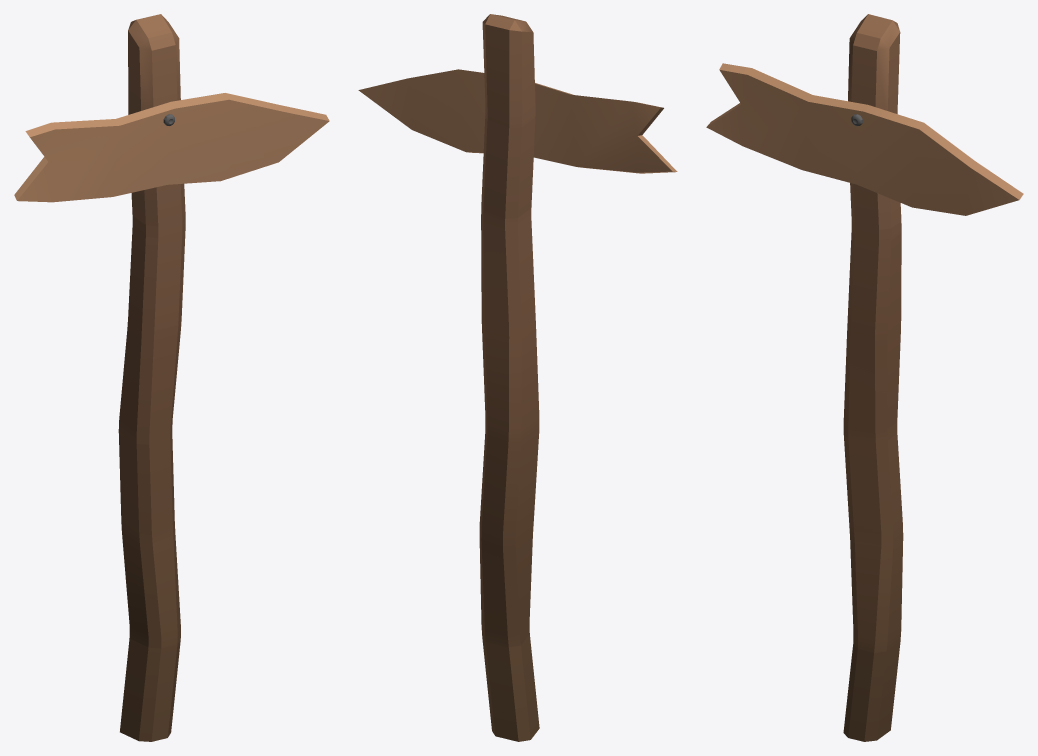
File: Directionvpointer_2.fbx
3 renders of one model, left to right at view 1: azimuth 30°, elevation 25°; view 2: azimuth 150°, elevation 25°; view 3: azimuth 330°, elevation 25°, orthographic.
Parts seen in each view (by area): view 1: Directionvpointer_2; view 2: Directionvpointer_2; view 3: Directionvpointer_2.
Boxes of the visible parts, x1,y1,x2,y2 form: Directionvpointer_2: [14, 14, 329, 741]; Directionvpointer_2: [358, 14, 677, 741]; Directionvpointer_2: [706, 14, 1023, 741].
Bounding box in the file's own units: 70.79 × 153 × 13.66.
